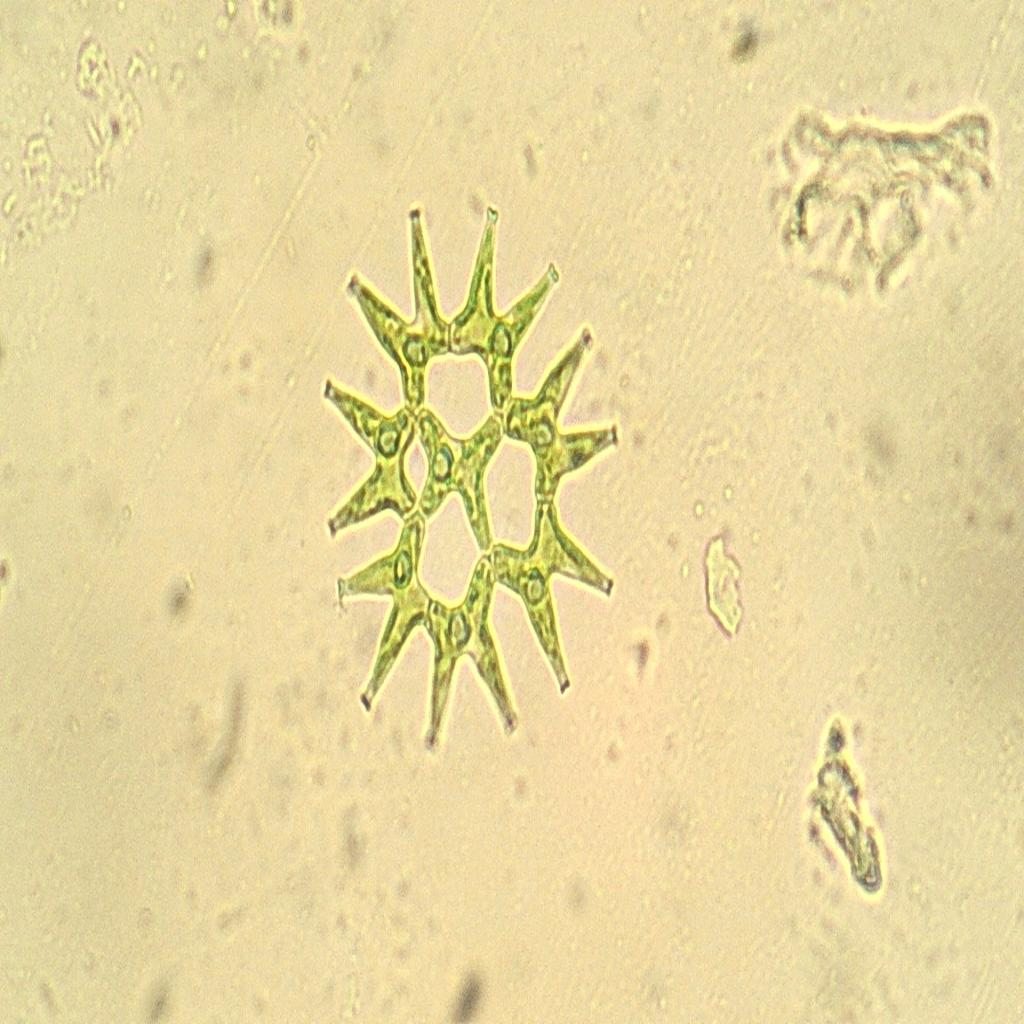Pediastrum_75T: (302, 184, 642, 777)
